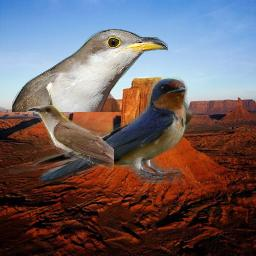Cuckoo: (12, 29, 168, 112), (25, 105, 114, 170)
Swallow: (8, 76, 195, 184)
